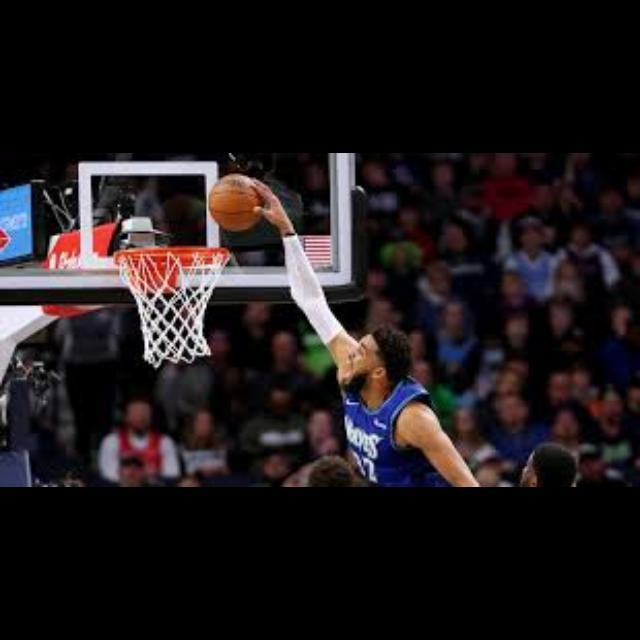basketball: (207, 172, 263, 232)
rim: (115, 248, 227, 364)
